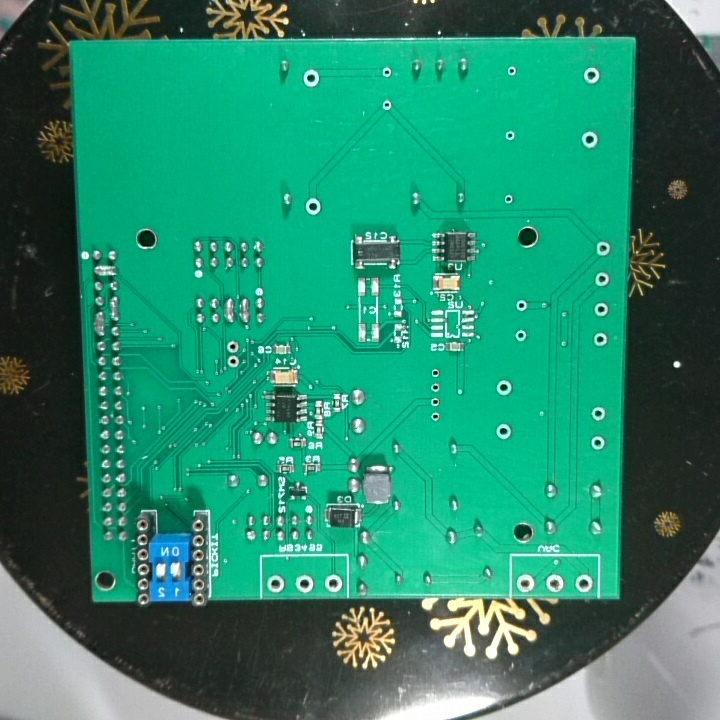F: (577, 129, 602, 152), (581, 63, 603, 89), (293, 571, 316, 595), (514, 572, 537, 595), (573, 573, 596, 595), (301, 68, 322, 91), (543, 573, 566, 594), (264, 572, 285, 595), (323, 573, 344, 594), (494, 377, 514, 399), (494, 420, 514, 442), (588, 433, 608, 455), (303, 195, 323, 216), (589, 404, 608, 426), (594, 239, 614, 259), (591, 328, 610, 349), (593, 270, 610, 292), (512, 297, 531, 316), (593, 299, 610, 320), (512, 326, 529, 346), (499, 190, 517, 208), (378, 63, 394, 83), (379, 95, 395, 114), (224, 354, 241, 371), (225, 338, 242, 354), (502, 128, 518, 144), (504, 63, 518, 80), (428, 380, 443, 395), (428, 409, 443, 424), (428, 366, 444, 380), (428, 395, 443, 409)
P: (88, 262, 119, 280), (106, 295, 122, 323), (223, 295, 237, 326), (90, 309, 106, 336), (237, 295, 251, 325)
